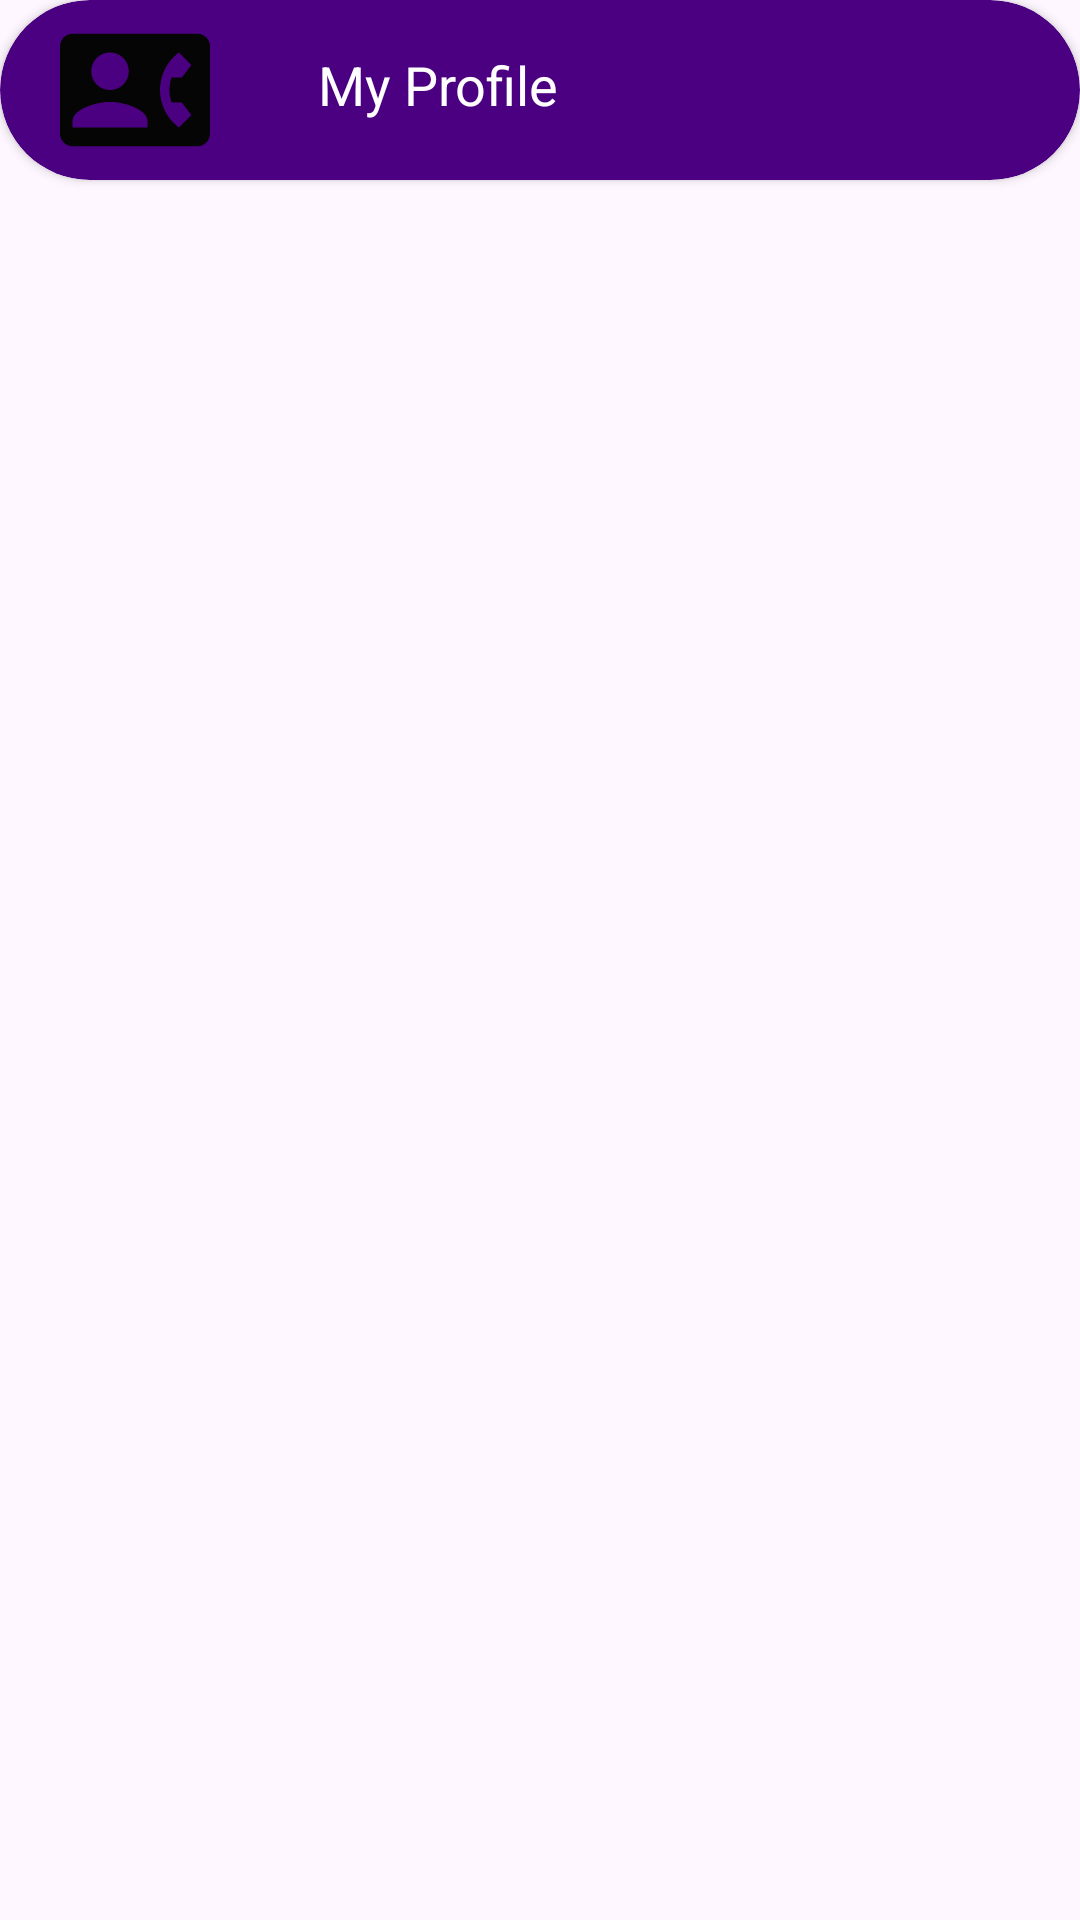

Screen size 1080*1920. Icon name, then its center in pixels as point (x, y):
contact phone: point (135, 90)
